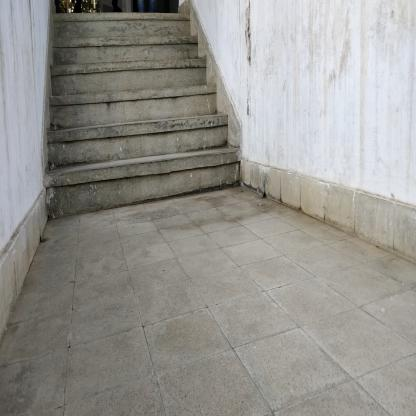stairs: (53, 58, 207, 216)
